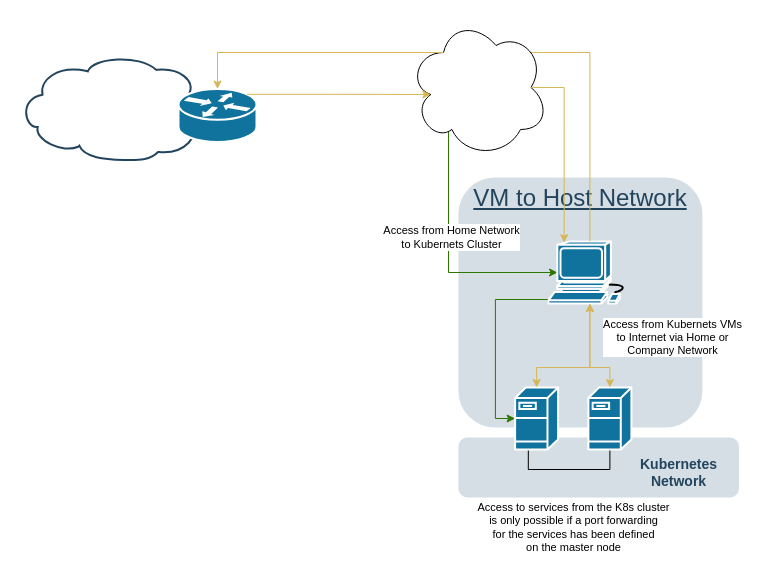
The diagram is 759 pixels wide and 571 high, and some of its shapes have lost their labels. Here are the shapes that lost their labels. From the top down, the centre of each, then its label:
(x=111, y=107): Internet
(x=478, y=87): Company or Home Network
